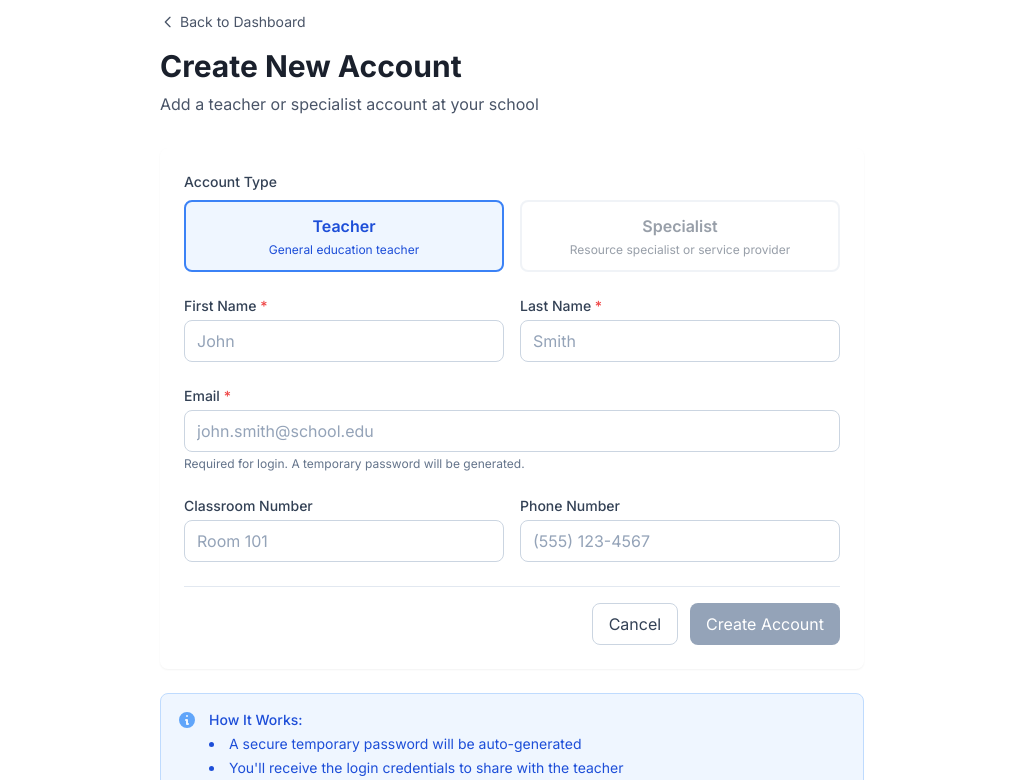
Test: Admin Create New Account page › blocks submission until the permission lookup settles
Expected: the button "Create Account" is disabled, [690,603,840,645]
Type "Jane" into the field labelled "First Name *" at {"x": 344, "y": 341}, box [184,320,504,362]
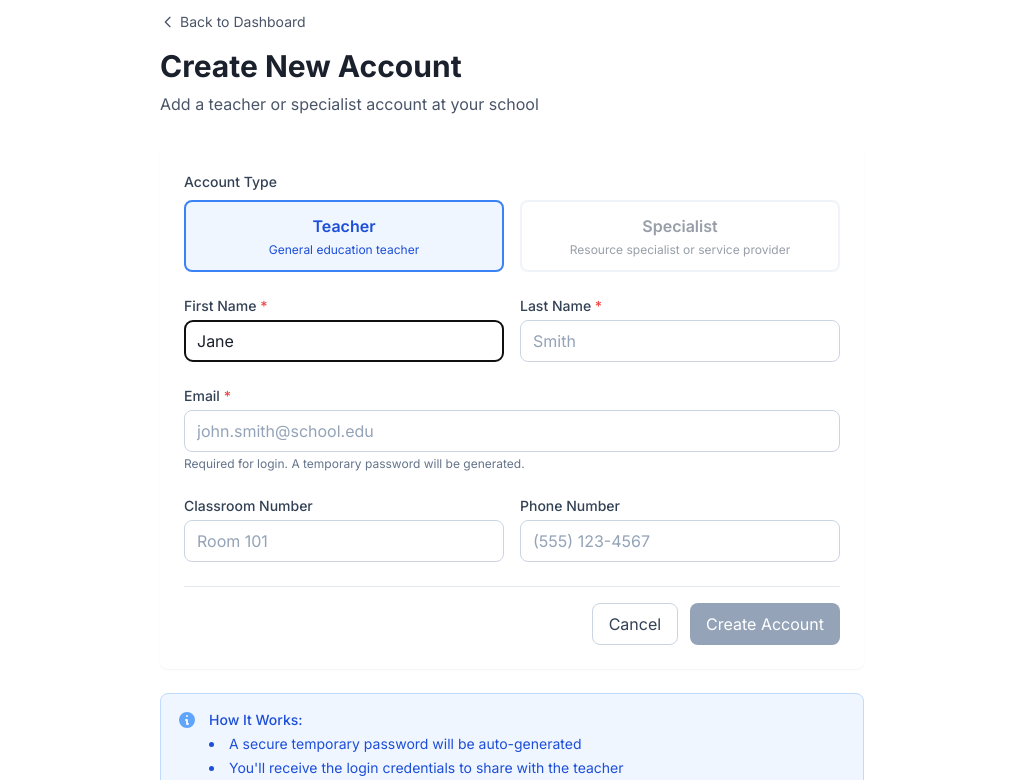
Type "Doe" into the field labelled "Last Name *" at {"x": 680, "y": 341}, box [520,320,840,362]
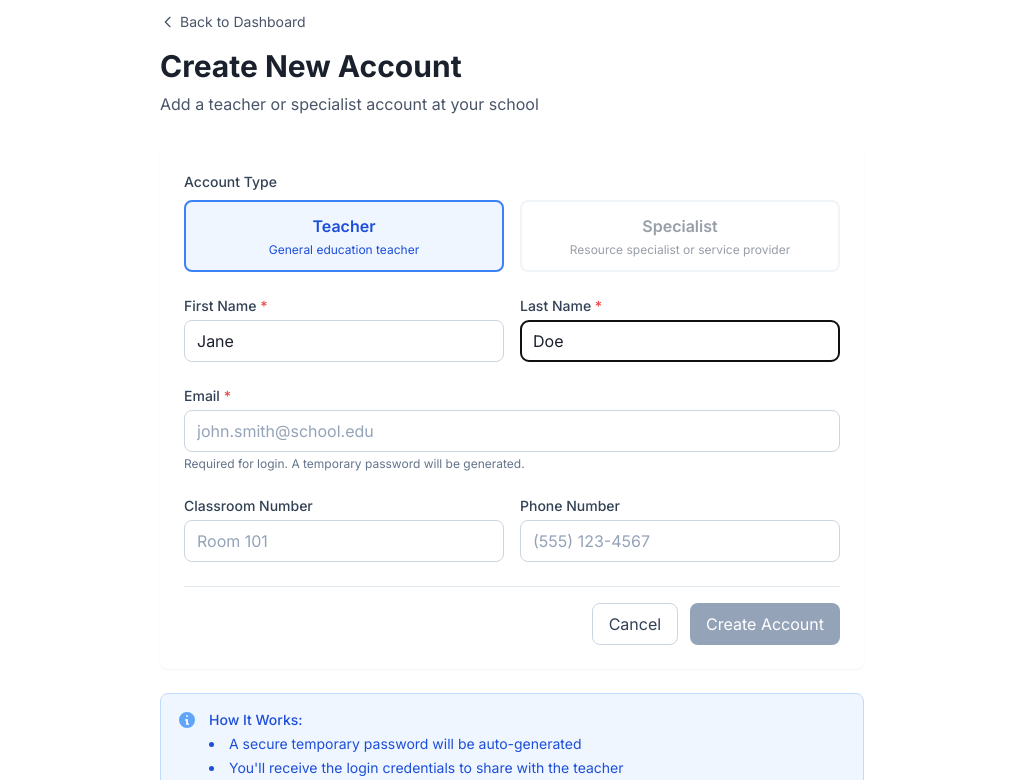
Type "jane.doe@school.edu" into the field labelled "Email *" at {"x": 512, "y": 431}, box [184,410,840,452]
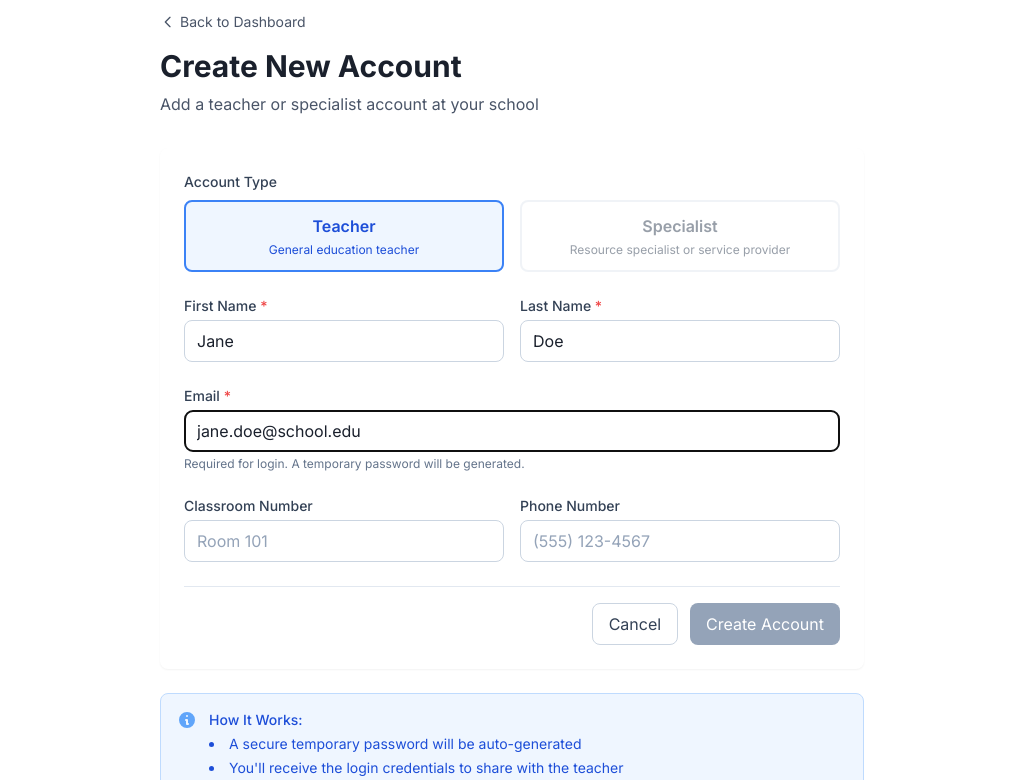
Click the button "Create Account" at {"x": 765, "y": 624}, box [690,603,840,645]
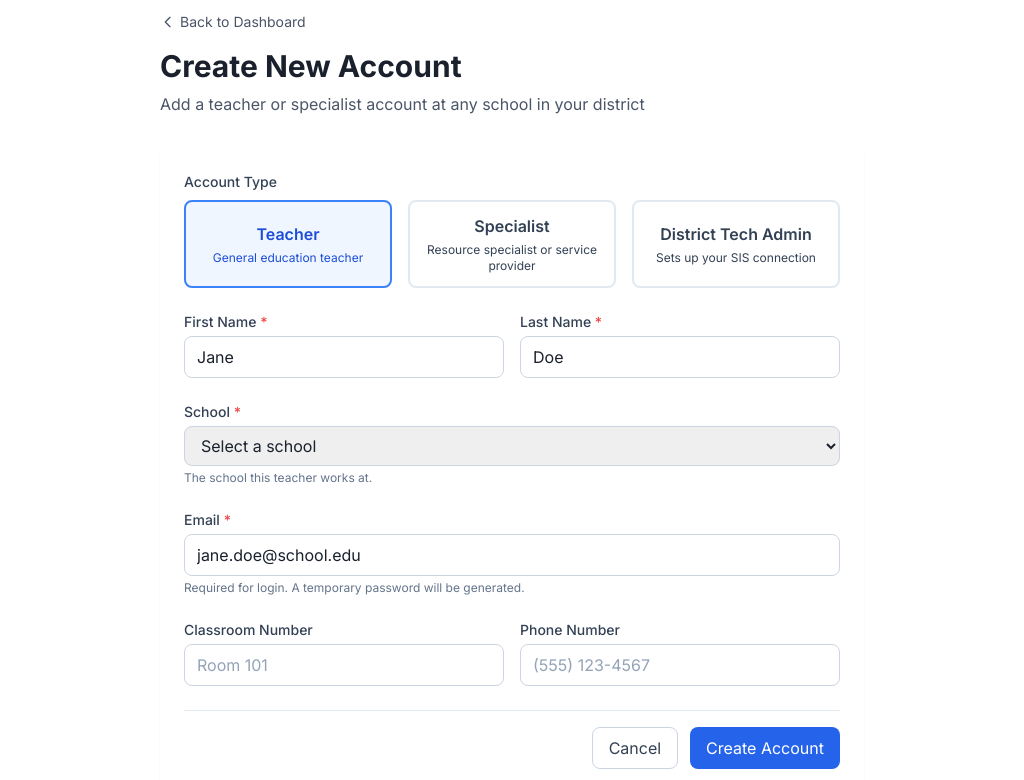
Expected: the button "Create Account" is enabled, [690,727,840,769]
Expected: the dropdown labelled "School *" is shown, [184,426,840,466]
